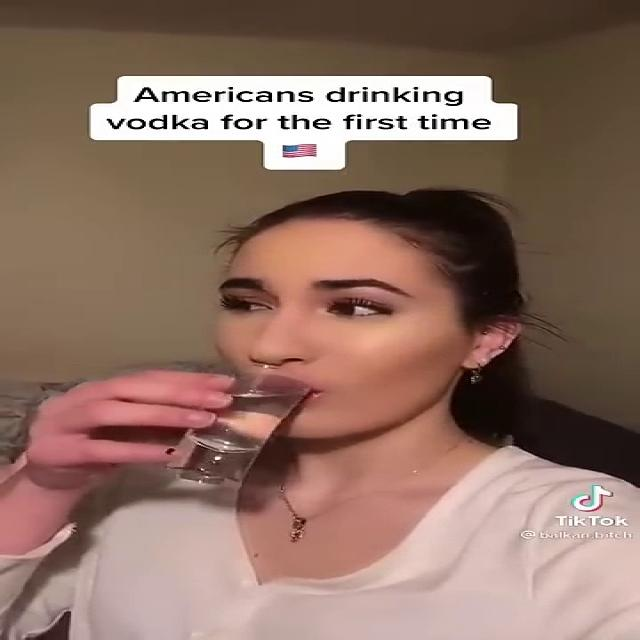Cup: (167, 373, 308, 485)
Hand: (19, 369, 237, 468)
Mouth: (230, 371, 354, 405)
